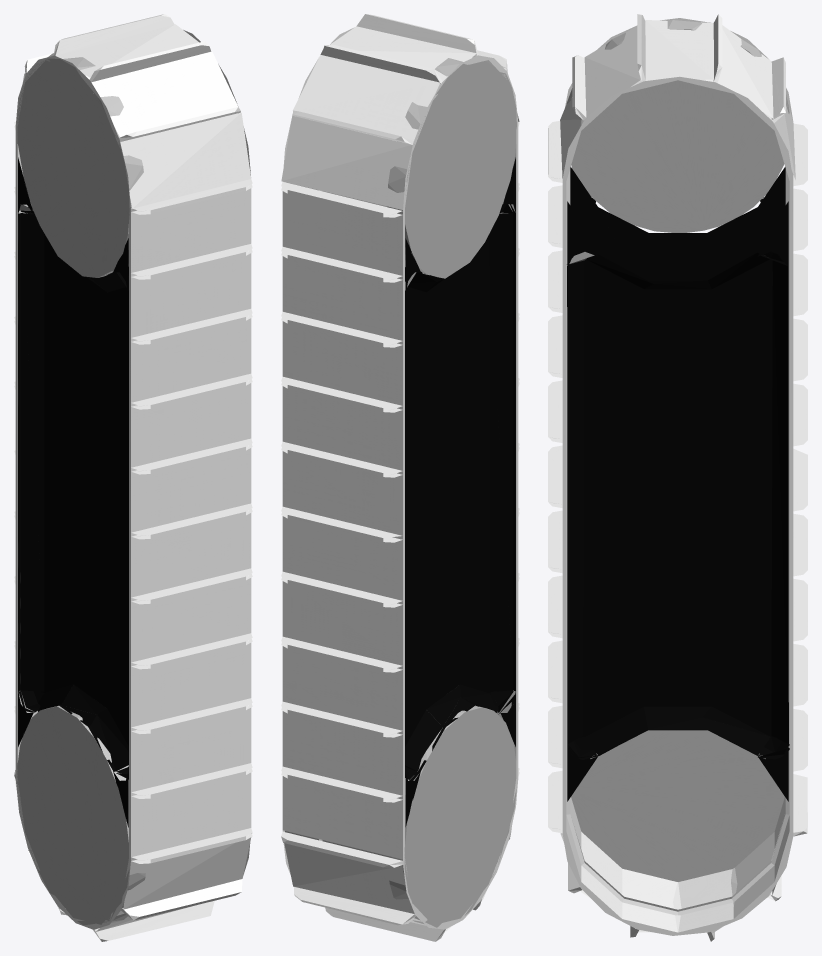
Rendered from bogie.dae.
3 renders of one model, left to right at view 1: azimuth 30°, elevation 25°; view 2: azimuth 150°, elevation 25°; view 3: azimuth 270°, elevation 25°, orthographic.
Visible parts, largest first — view 1: node; view 2: node; view 3: node.
Part boxes in pixels (box(x1,y1,x2,y2)): node: box(14, 14, 252, 941); node: box(281, 14, 519, 941); node: box(548, 14, 807, 941).
Size of the model in its own units: 0.097 by 0.1809 by 0.6741.
Materials: 1 (1 with a texture image).
